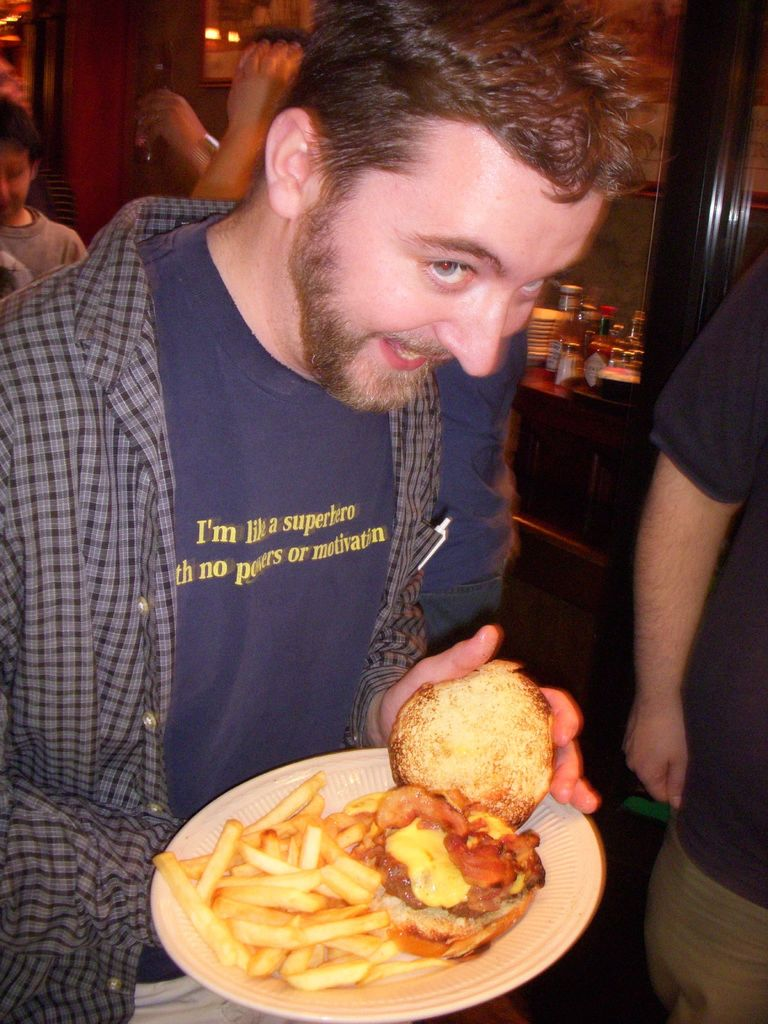French fries: (151, 768, 458, 992)
